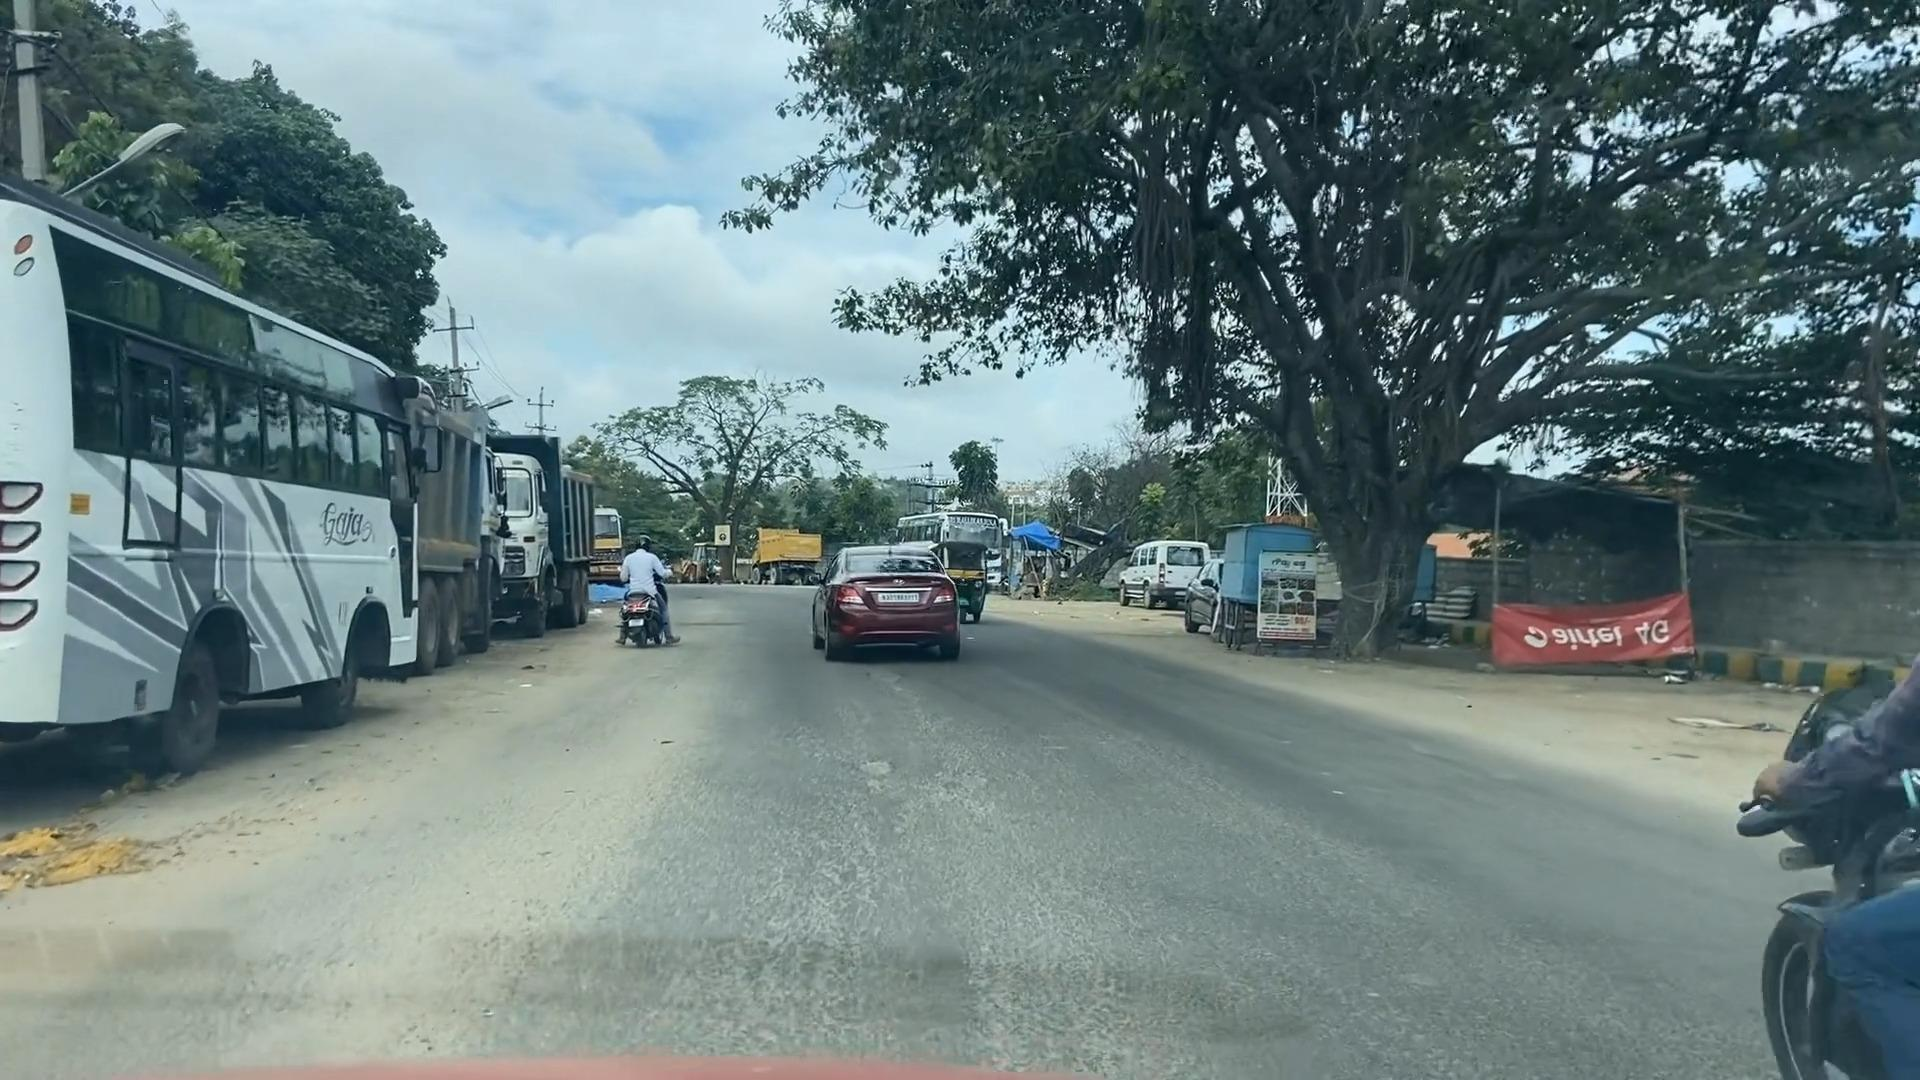HMV: (0, 223, 508, 782), (1101, 522, 1213, 612), (728, 516, 822, 593)
LMV: (789, 530, 984, 712), (582, 520, 671, 684)
